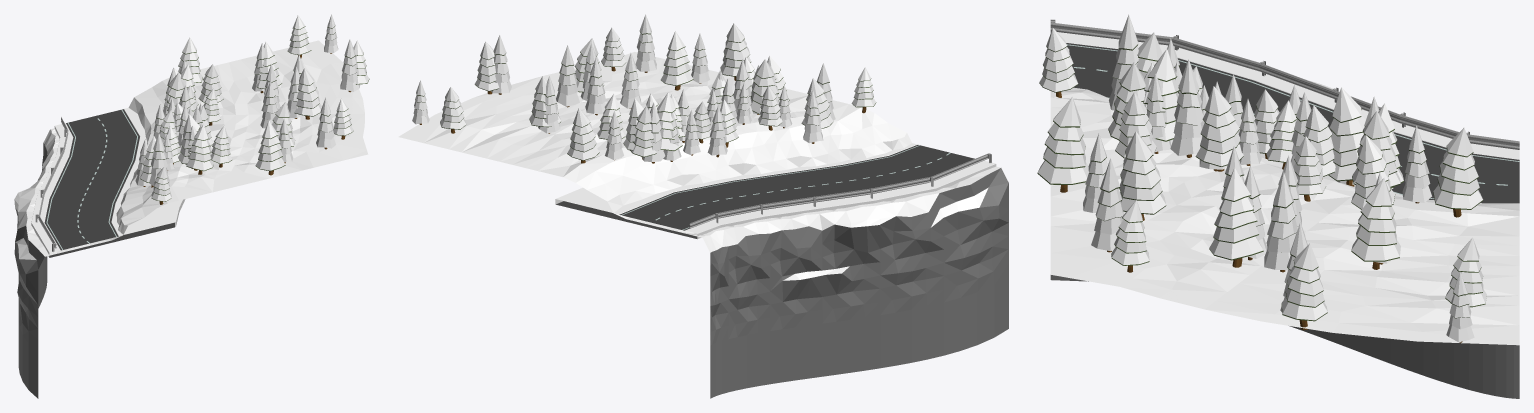
The model's file is SnowRoadStraight3.fbx.
The picture shows the model from 3 angles, left to right: view 1: azimuth 30°, elevation 25°; view 2: azimuth 150°, elevation 25°; view 3: azimuth 270°, elevation 25°; orthographic projection. The views are drawn at different scales.
Parts seen in each view (by area): view 1: SRS3Plane, SRS3Road, SRS3Plane|pineTree04|Dupli|47, SRS3Plane|pineTree04|Dupli|25, SRS3Plane|pineTree04|Dupli|5, SRS3Plane|pineTree05|Dupli|40, SRS3Plane|pineTree05|Dupli|26, SRS3Plane|pineTree04|Dupli|39, SRS3Plane|pineTree04|Dupli|17, SRS3Plane|pineTree04|Dupli|33, SRS3Plane|pineTree05|Dupli|4, SRS3Plane|pineTree04|Dupli|27 (+16 smaller); view 2: SRS3Plane, SRS3Road, SRS3Guardrail, SRS3Plane|pineTree04|Dupli|11, SRS3Plane|pineTree04|Dupli|33, SRS3Plane|pineTree04|Dupli|47, SRS3Plane|pineTree05|Dupli|38, SRS3Plane|pineTree04|Dupli|19, SRS3Plane|pineTree05|Dupli|26, SRS3Plane|pineTree04|Dupli|15, SRS3Plane|pineTree04|Dupli|31, SRS3Plane|pineTree04|Dupli|43 (+16 smaller); view 3: SRS3Plane, SRS3Road, SRS3Guardrail, SRS3Plane|pineTree04|Dupli|25, SRS3Plane|pineTree04|Dupli|47, SRS3Plane|pineTree04|Dupli|37, SRS3Plane|pineTree04|Dupli|33, SRS3Plane|pineTree04|Dupli|11, SRS3Plane|pineTree04|Dupli|43, SRS3Plane|pineTree04|Dupli|13, SRS3Plane|pineTree04|Dupli|19, SRS3Plane|pineTree05|Dupli|12 (+27 smaller).
Part boxes in pixels (left/top/right/bottom): SRS3Plane: left=14, top=40, right=368, bottom=398; SRS3Road: left=31, top=107, right=185, bottom=257; SRS3Plane|pineTree04|Dupli|47: left=255, top=121, right=285, bottom=175; SRS3Plane|pineTree04|Dupli|25: left=294, top=68, right=321, bottom=119; SRS3Plane|pineTree04|Dupli|5: left=186, top=124, right=213, bottom=174; SRS3Plane|pineTree05|Dupli|40: left=340, top=39, right=360, bottom=92; SRS3Plane|pineTree05|Dupli|26: left=316, top=97, right=335, bottom=149; SRS3Plane|pineTree04|Dupli|39: left=287, top=15, right=311, bottom=58; SRS3Plane|pineTree04|Dupli|17: left=210, top=125, right=232, bottom=167; SRS3Plane|pineTree04|Dupli|33: left=178, top=37, right=202, bottom=82; SRS3Plane|pineTree05|Dupli|4: left=149, top=133, right=169, bottom=186; SRS3Plane|pineTree04|Dupli|27: left=333, top=98, right=353, bottom=139; SRS3Plane: left=398, top=52, right=1008, bottom=398; SRS3Road: left=555, top=143, right=996, bottom=239; SRS3Guardrail: left=689, top=153, right=991, bottom=228; SRS3Plane|pineTree04|Dupli|11: left=660, top=31, right=693, bottom=90; SRS3Plane|pineTree04|Dupli|33: left=567, top=108, right=599, bottom=163; SRS3Plane|pineTree04|Dupli|47: left=720, top=23, right=751, bottom=80; SRS3Plane|pineTree05|Dupli|38: left=556, top=45, right=579, bottom=107; SRS3Plane|pineTree04|Dupli|19: left=657, top=92, right=682, bottom=151; SRS3Plane|pineTree05|Dupli|26: left=635, top=14, right=656, bottom=72; SRS3Plane|pineTree04|Dupli|15: left=750, top=59, right=779, bottom=114; SRS3Plane|pineTree04|Dupli|31: left=630, top=106, right=656, bottom=159; SRS3Plane|pineTree04|Dupli|43: left=474, top=41, right=499, bottom=94; SRS3Plane: left=1050, top=80, right=1519, bottom=398; SRS3Road: left=1057, top=32, right=1519, bottom=203; SRS3Guardrail: left=1050, top=19, right=1519, bottom=149; SRS3Plane|pineTree04|Dupli|25: left=1209, top=168, right=1263, bottom=267; SRS3Plane|pineTree04|Dupli|47: left=1037, top=97, right=1088, bottom=192; SRS3Plane|pineTree04|Dupli|37: left=1351, top=177, right=1400, bottom=269; SRS3Plane|pineTree04|Dupli|33: left=1433, top=127, right=1482, bottom=217; SRS3Plane|pineTree04|Dupli|11: left=1119, top=131, right=1166, bottom=220; SRS3Plane|pineTree04|Dupli|43: left=1281, top=243, right=1327, bottom=330; SRS3Plane|pineTree04|Dupli|13: left=1195, top=86, right=1243, bottom=171; SRS3Plane|pineTree04|Dupli|19: left=1328, top=87, right=1365, bottom=186; SRS3Plane|pineTree05|Dupli|12: left=1170, top=59, right=1203, bottom=157.
Size of what is drawn, in the model's own units: 18521 by 9332 by 10284.
